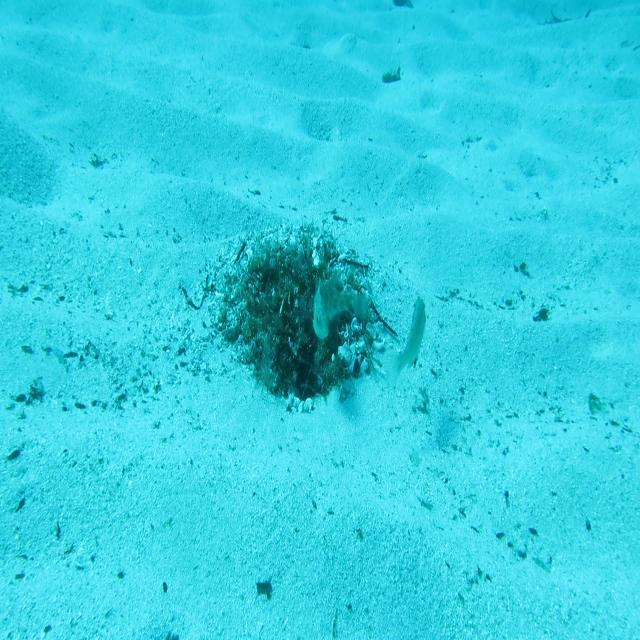LF: (308, 270, 370, 343)
core_nest: (279, 257, 318, 289)
female: (381, 296, 428, 390)
nest: (202, 214, 384, 421)
